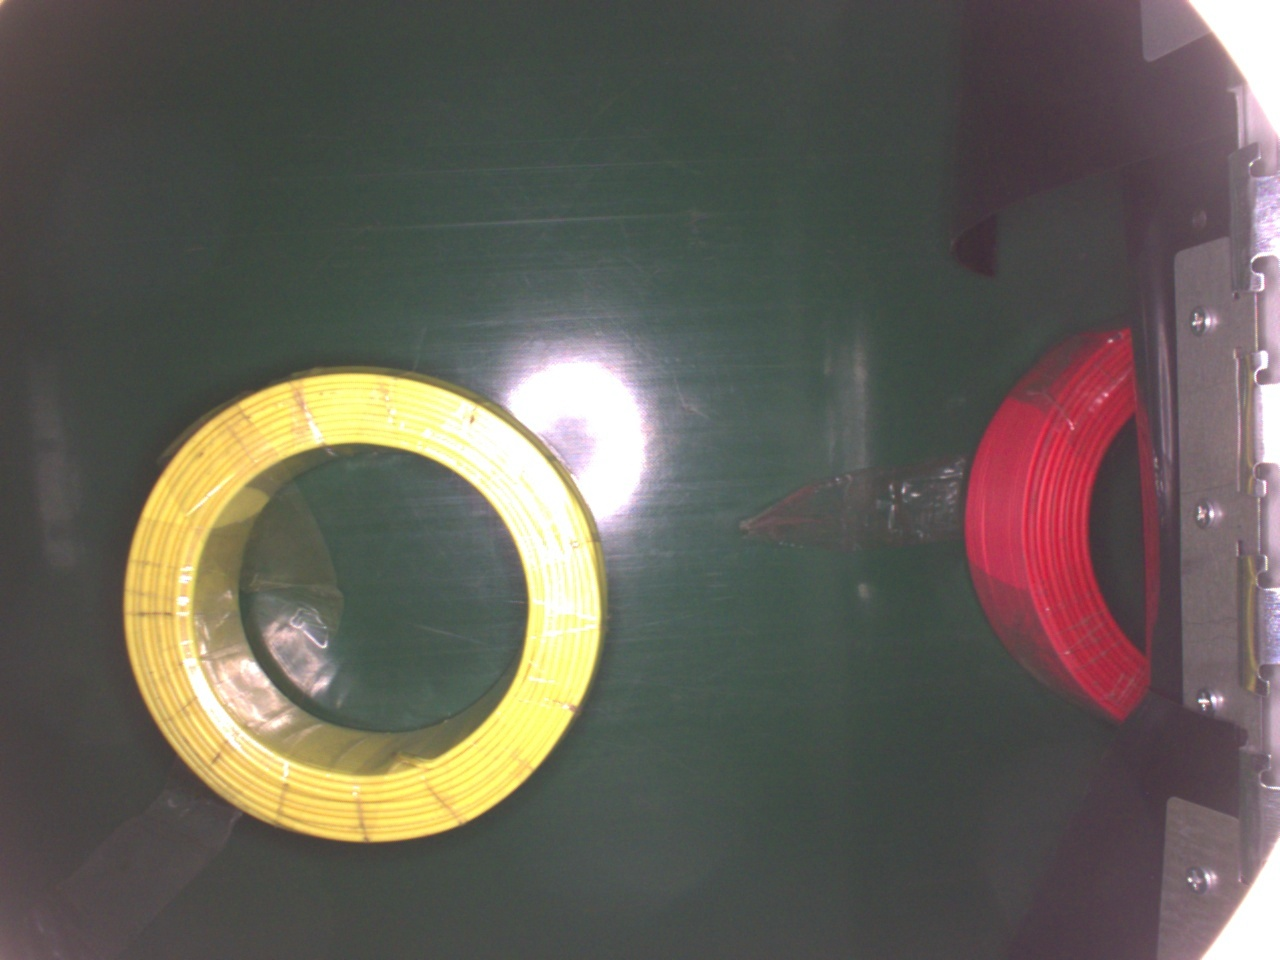red: (958, 314, 1149, 728)
yellow: (120, 364, 615, 846)
